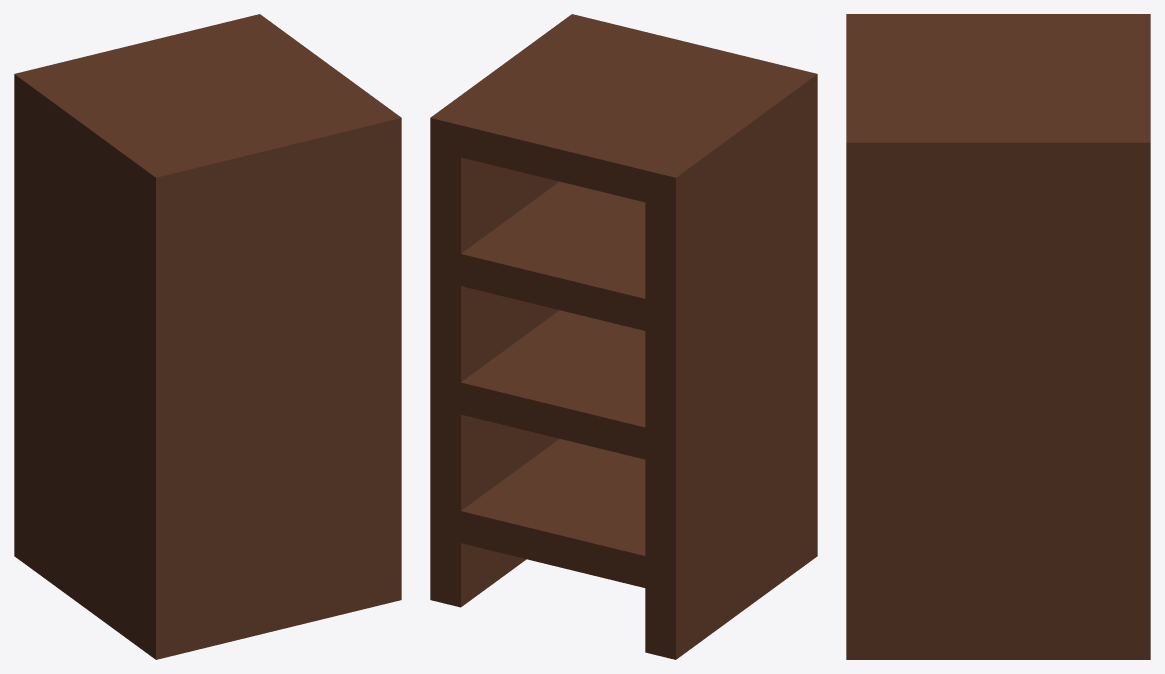
File: shelf.gltf
3 renders of one model, left to right at view 1: azimuth 30°, elevation 25°; view 2: azimuth 150°, elevation 25°; view 3: azimuth 270°, elevation 25°, orthographic. The views are drawn at different scales.
Visible parts, largest first — view 1: cuboid; view 2: cuboid; view 3: cuboid.
Boxes of the visible parts, bbox=[...] form: cuboid: bbox=[14, 14, 401, 659]; cuboid: bbox=[430, 14, 817, 659]; cuboid: bbox=[846, 14, 1150, 659].
Bounding box in the file's own units: 1 × 1.88 × 1.
Materials: 1 (1 with a texture image).
